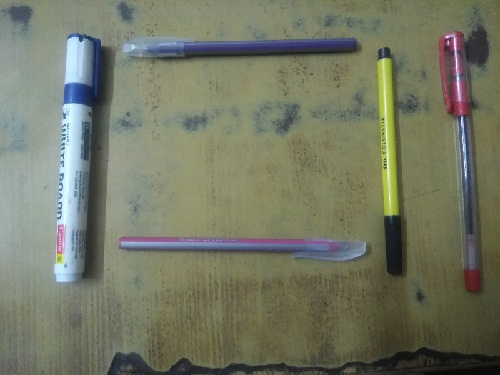pen: (431, 26, 487, 297), (53, 23, 104, 289), (112, 228, 371, 262), (374, 43, 408, 277), (116, 35, 369, 58)
